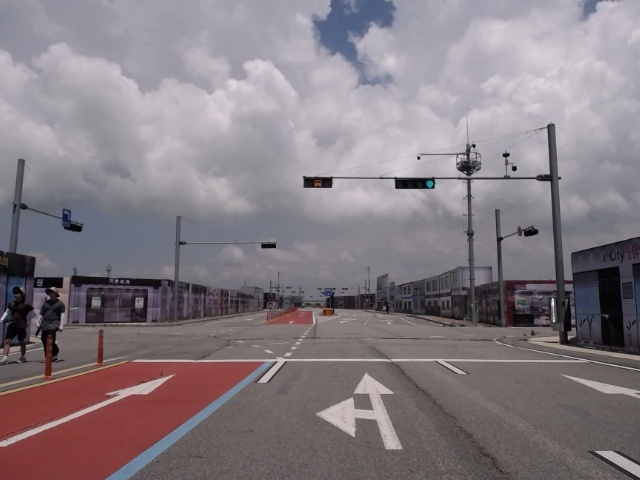straight_green_4: (395, 177, 435, 188)
